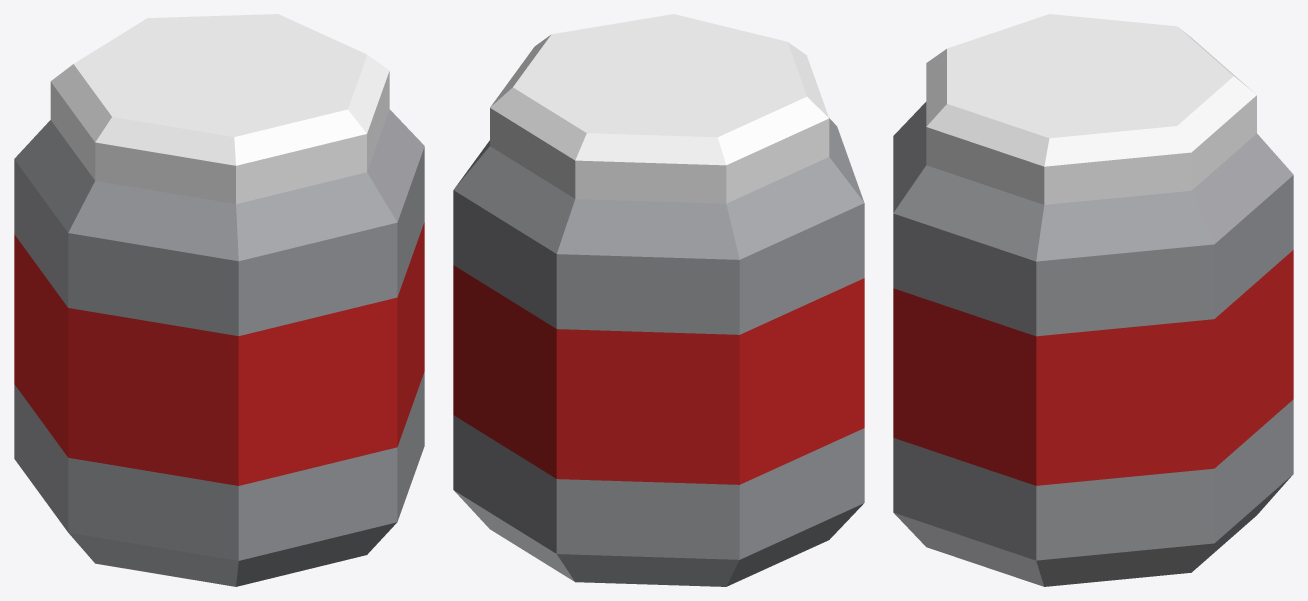
The model's file is Medicine_1.fbx.
3 views of the same model, side by side, from view 1: azimuth 30°, elevation 25°; view 2: azimuth 150°, elevation 25°; view 3: azimuth 270°, elevation 25° (orthographic).
Visible parts, largest first — view 1: Medicine_1; view 2: Medicine_1; view 3: Medicine_1.
Part boxes in pixels (box(x1,y1,x2,y2)): Medicine_1: box(14, 14, 424, 586); Medicine_1: box(453, 14, 864, 586); Medicine_1: box(893, 14, 1293, 586).
Size of the model in its own units: 5.35 by 6.3 by 5.21.
